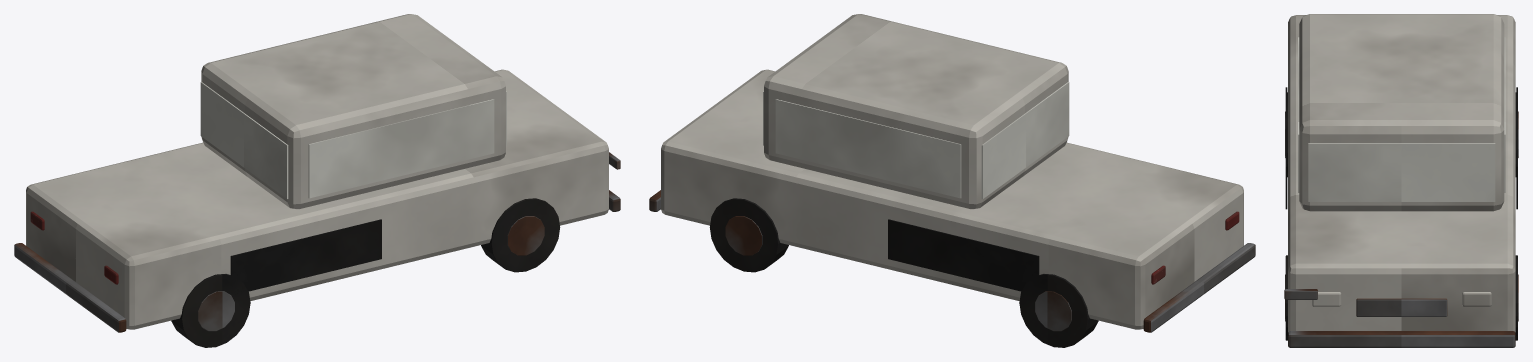
Rendered from V01_old_police_car.glb.
3 views of the same model, side by side, from view 1: azimuth 30°, elevation 25°; view 2: azimuth 150°, elevation 25°; view 3: azimuth 270°, elevation 25° (orthographic). The views are drawn at different scales.
Parts seen in each view (by area): view 1: V01_old_police_car; view 2: V01_old_police_car; view 3: V01_old_police_car.
Part boxes in pixels (x1,y1,x2,y2): V01_old_police_car: (14, 14, 620, 347); V01_old_police_car: (649, 14, 1255, 347); V01_old_police_car: (1284, 14, 1518, 347).
Size of the model in its own units: 4.5 by 1.64 by 1.68.
9 materials, 9 textured.
